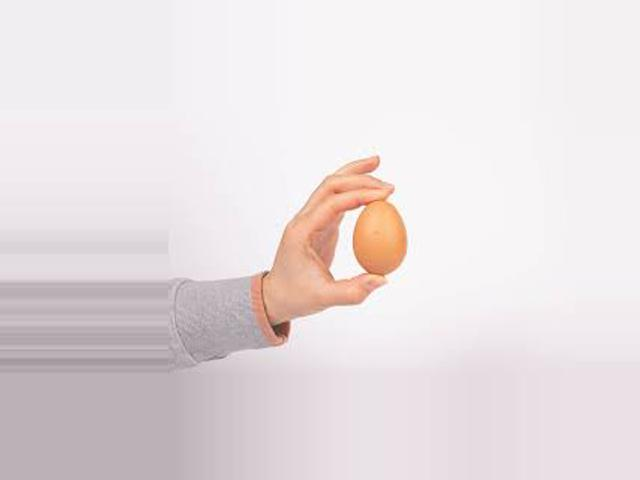egg: (354, 198, 407, 273)
